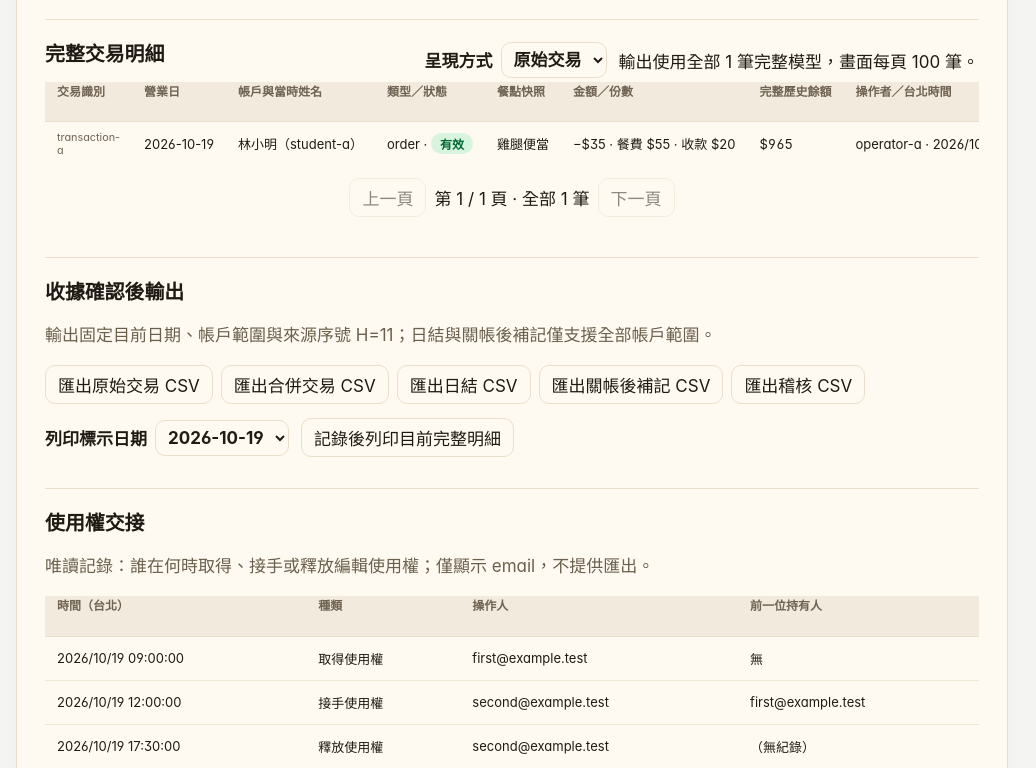
it: CloudReportPage › records the frozen H/range/scope before downloading the full audit CSV
The image size is (1036, 768).
(page scrolled)
Click the button "匯出稽核 CSV": (798, 384) [731,365,865,404]
(page scrolled)
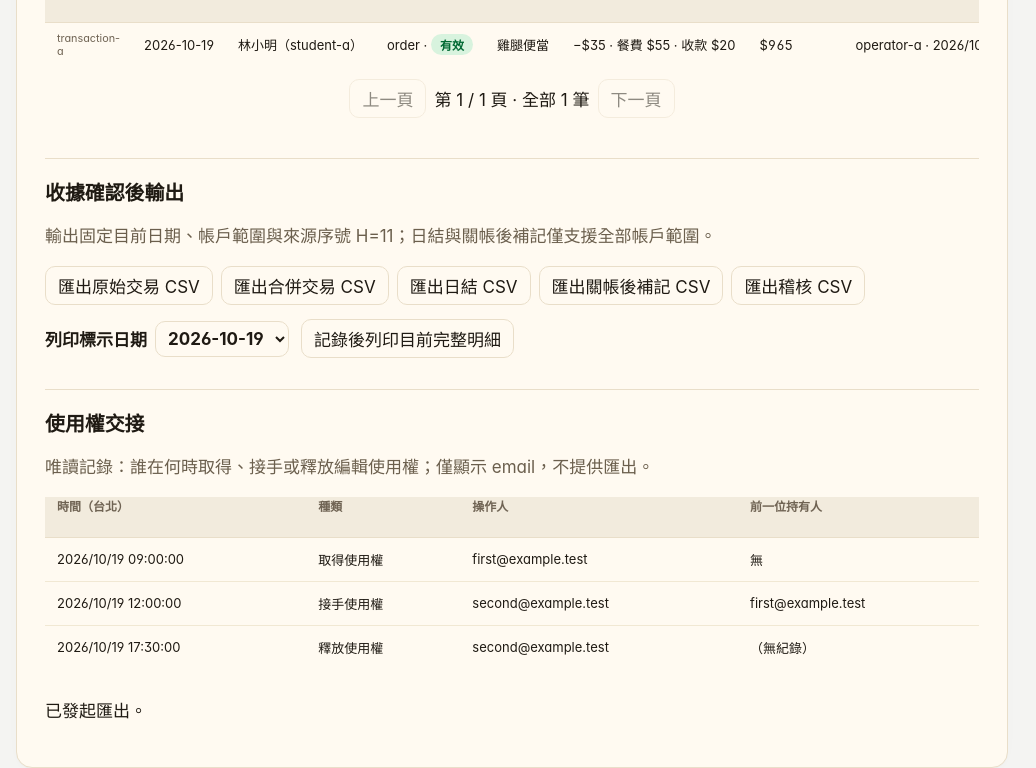
Now the message shows "已發起匯出", box [45,701,147,721]
